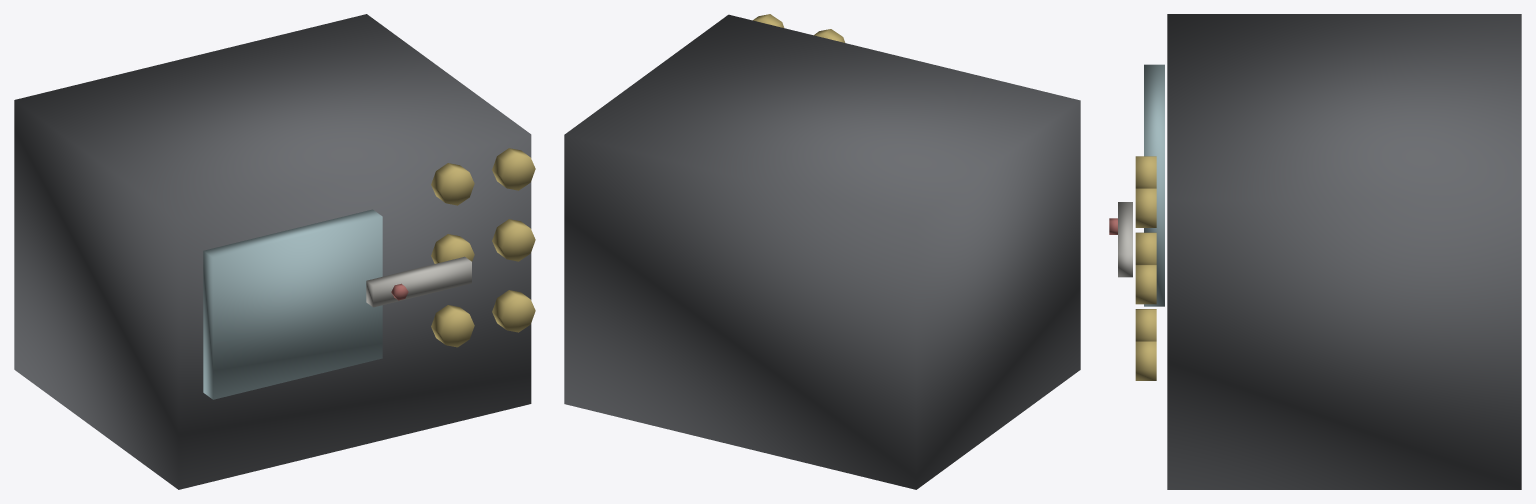
File: oscilloscope.glb
3 renders of one model, left to right at view 1: azimuth 30°, elevation 25°; view 2: azimuth 150°, elevation 25°; view 3: azimuth 270°, elevation 25°, orthographic. The views are drawn at different scales.
Visible parts, largest first — view 1: world; view 2: world; view 3: world.
Boxes of the visible parts, x1,y1,x2,y2 form: world: (14,14,535,489); world: (564,14,1080,489); world: (1109,14,1521,489).
Bounding box in the file's own units: 0.52 × 0.38 × 0.4885.
